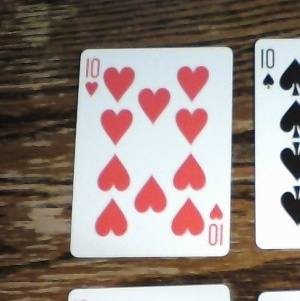card: (66, 45, 233, 256)
